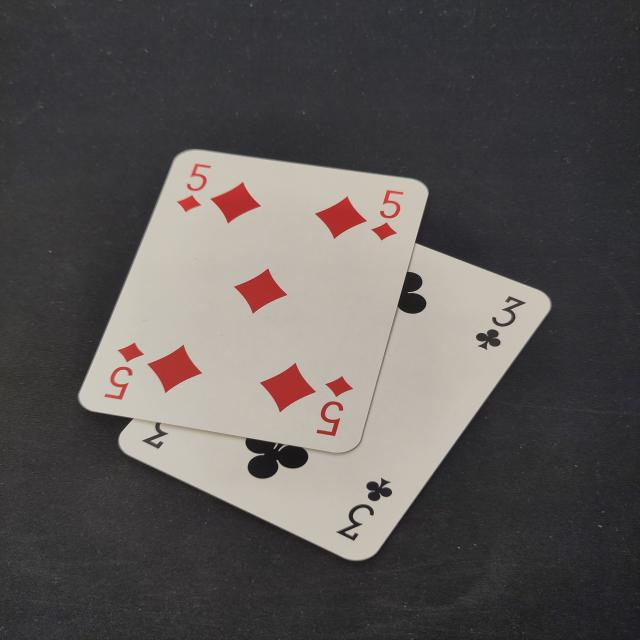3c: (329, 473, 398, 547), (472, 291, 528, 360)
5d: (310, 370, 361, 443), (96, 338, 148, 404), (365, 185, 409, 248), (170, 159, 215, 219)
